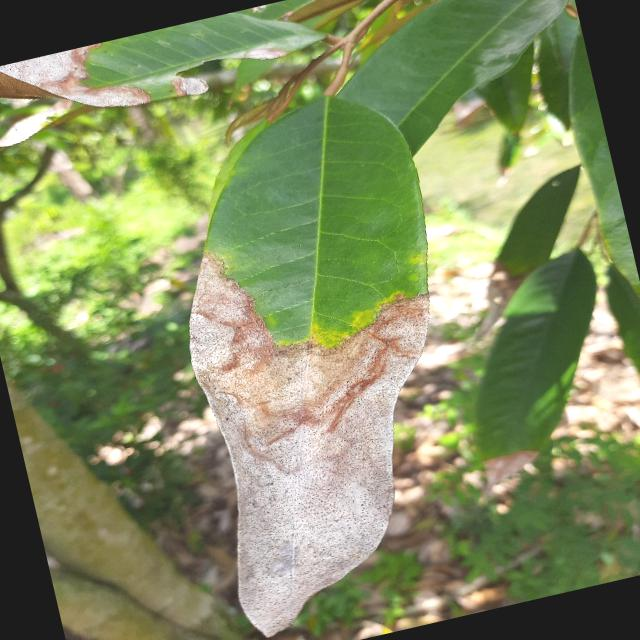Leaf Blight: (127, 73, 519, 639)
